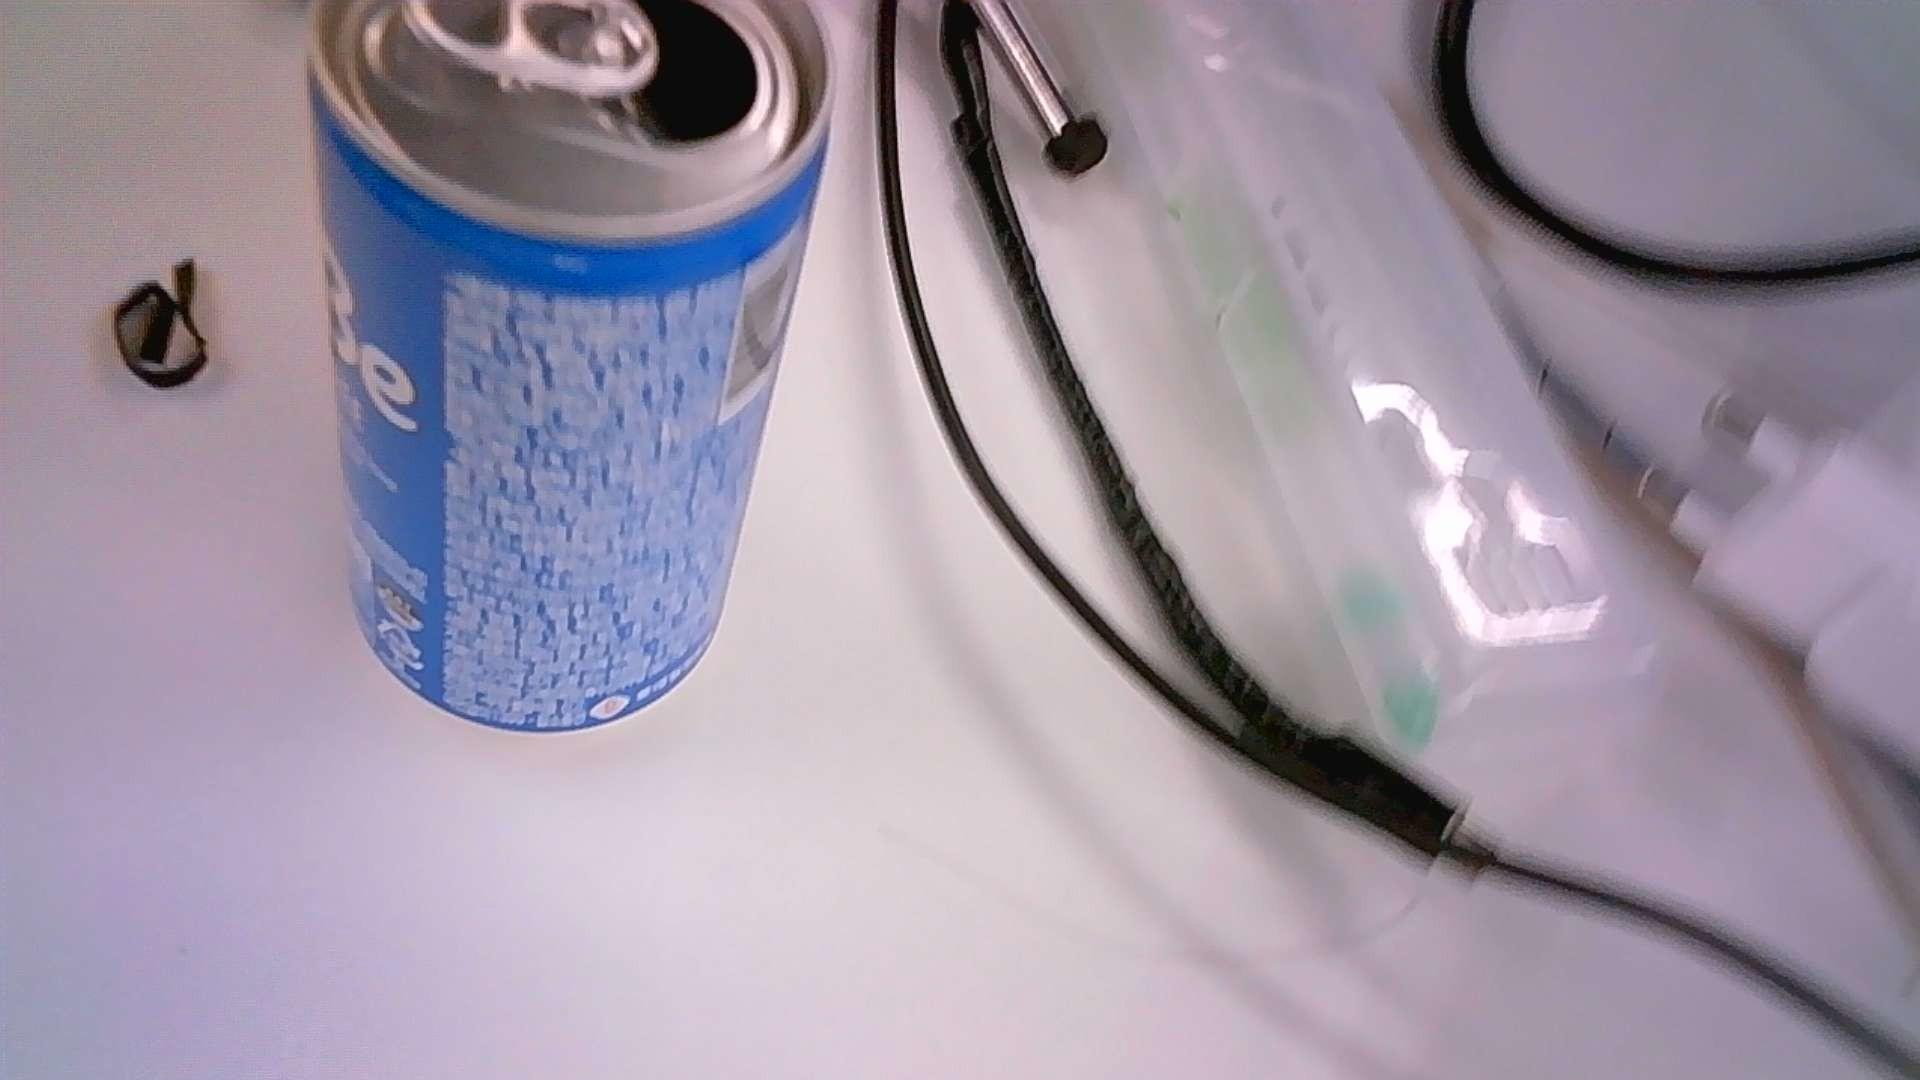letsbe: (306, 0, 837, 735)
